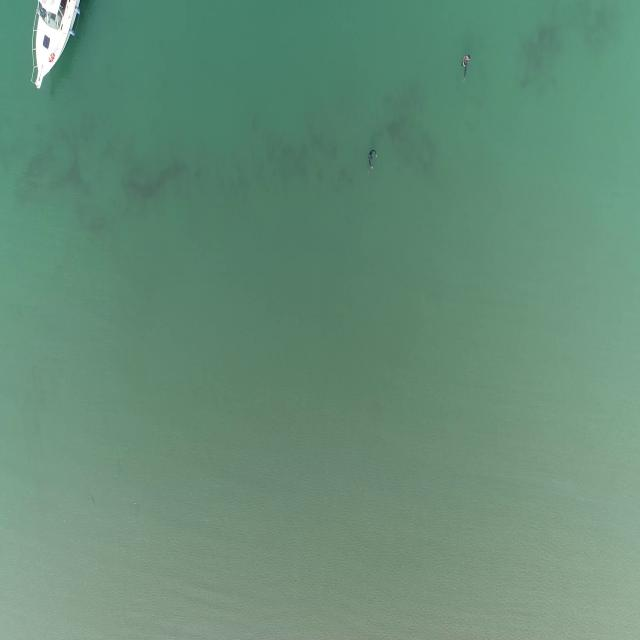boat: (27, 0, 82, 92)
person: (461, 52, 473, 81), (366, 148, 380, 171)
